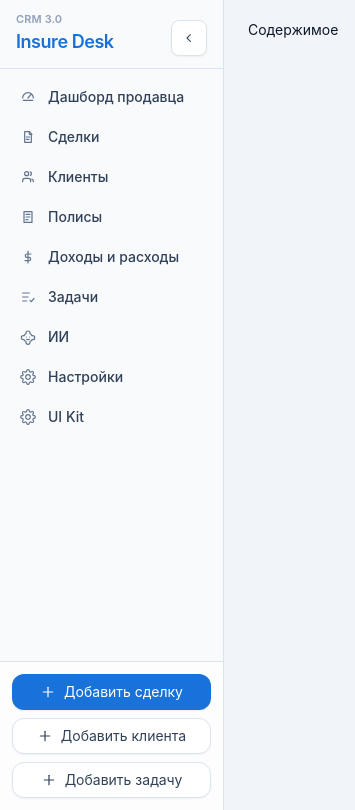
Test: MainLayout › collapses the desktop sidebar and persists the choice
Click the button named "Свернуть боковую панель".
click(189, 38)  # box [171,20,207,56]
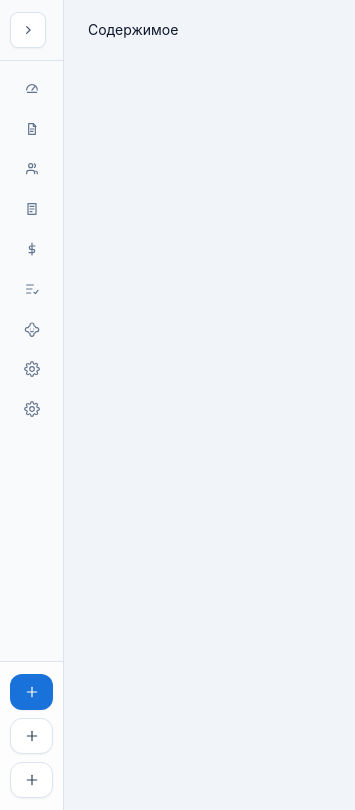
Result: the button named "Развернуть боковую панель" is collapsed at [10,12,46,48]
